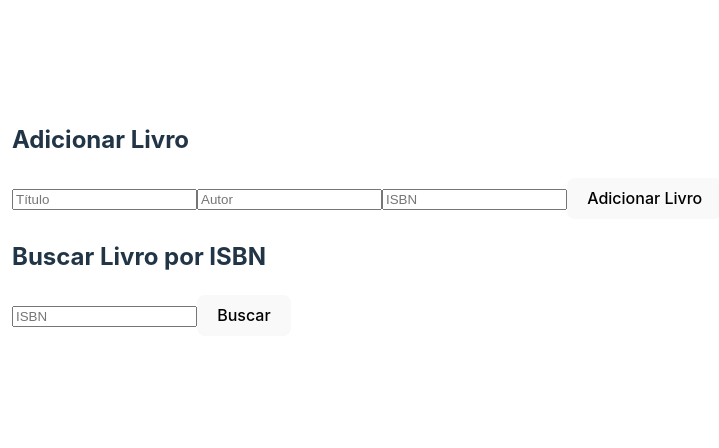
Test: Integração: BookManager › Busca um livro por ISBN com sucesso
Type "123456789" into the field with test id "isbn-input-buscar" at (104, 317), box [12,306,197,327]
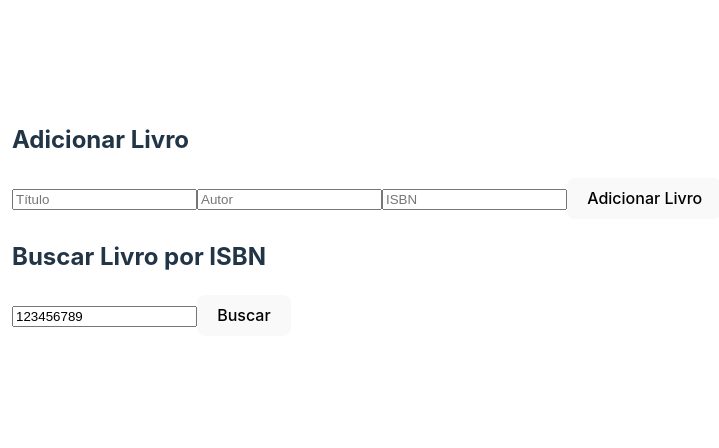
Click the button with test id "search-book-button" at (244, 315), box [197,295,291,336]
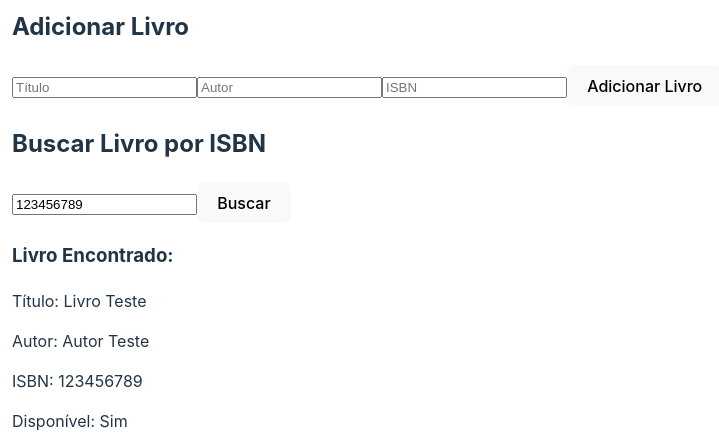
Result: the heading "Livro Encontrado:" is shown at [12,244,174,267]
Result: the text "Título: Livro Teste" is shown at [12,291,146,311]
Result: the text "Autor: Autor Teste" is shown at [12,331,149,351]
